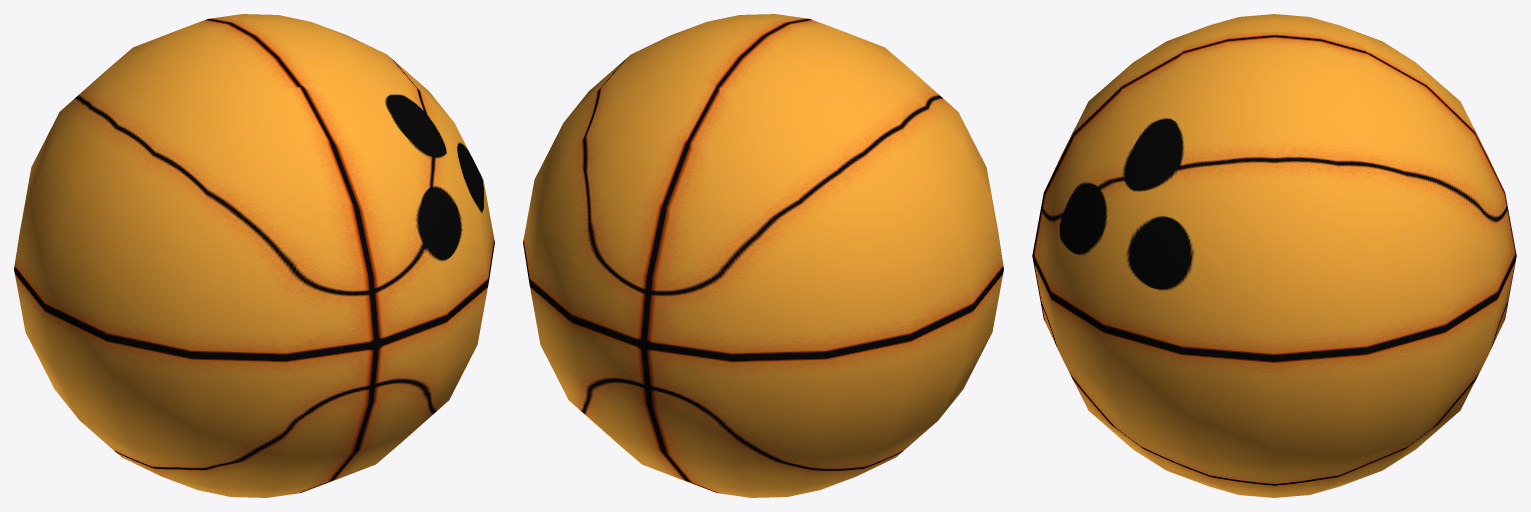
The model's file is qiu_05.FBX.
3 renders of one model, left to right at view 1: azimuth 30°, elevation 25°; view 2: azimuth 150°, elevation 25°; view 3: azimuth 270°, elevation 25°, orthographic.
Visible parts, largest first — view 1: qiu_05; view 2: qiu_05; view 3: qiu_05.
Part boxes in pixels (x1,y1,x2,y2): qiu_05: [14, 14, 494, 497]; qiu_05: [523, 14, 1003, 497]; qiu_05: [1032, 14, 1516, 497].
Size of the model in its own units: 591 by 591 by 591.
1 material, 1 textured.
